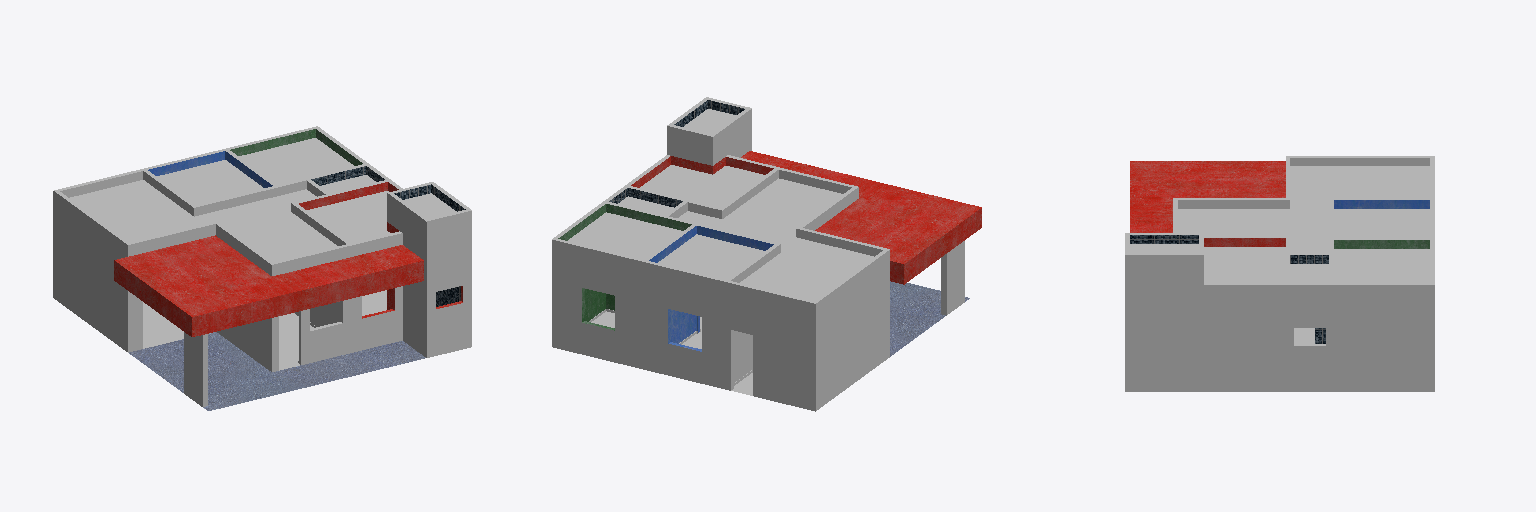
3 views of the same model, side by side, from view 1: azimuth 30°, elevation 25°; view 2: azimuth 150°, elevation 25°; view 3: azimuth 270°, elevation 25° (orthographic).
Parts seen in each view (by area): view 1: paredes_exteriores, techo_garage, brick, piso_garage, techo_sala, techo_cocina, techo_cuarto_2, techo_cuarto_1, techo_cuarto_3, columna, piso_cocina, piso_sala (+1 smaller); view 2: paredes_exteriores, techo_garage, techo_sala, techo_cocina, brick, techo_cuarto_3, techo_cuarto_2, piso_garage, techo_cuarto_1, columna, techo_baño_suite; view 3: paredes_exteriores, brick, techo_garage, techo_cocina, techo_sala, techo_cuarto_2, techo_cuarto_3, techo_cuarto_1, techo_baño, techo_baño_suite.
Boxes of the visible parts, <box> form: paredes_exteriores: <box>53,126,402,371</box>; techo_garage: <box>114,235,423,336</box>; brick: <box>387,182,471,357</box>; piso_garage: <box>129,332,425,410</box>; techo_sala: <box>199,189,337,261</box>; techo_cocina: <box>70,180,206,241</box>; techo_cuarto_2: <box>239,138,353,184</box>; techo_cuarto_1: <box>157,160,263,204</box>; techo_cuarto_3: <box>307,191,390,242</box>; columna: <box>184,332,207,406</box>; piso_cocina: <box>143,302,183,348</box>; piso_sala: <box>279,313,313,370</box>; paredes_exteriores: <box>552,155,889,411</box>; techo_garage: <box>741,151,981,284</box>; techo_sala: <box>677,178,842,247</box>; techo_cocina: <box>740,237,873,300</box>; brick: <box>667,97,751,174</box>; techo_cuarto_3: <box>640,165,764,207</box>; techo_cuarto_2: <box>568,212,682,259</box>; piso_garage: <box>890,281,969,356</box>; techo_cuarto_1: <box>658,234,764,279</box>; columna: <box>941,241,964,315</box>; techo_baño_suite: <box>684,109,736,133</box>; paredes_exteriores: <box>1173,156,1434,391</box>; brick: <box>1125,233,1203,391</box>; techo_garage: <box>1130,161,1285,232</box>; techo_cocina: <box>1290,166,1429,208</box>; techo_sala: <box>1178,209,1328,252</box>; techo_cuarto_2: <box>1334,249,1429,282</box>; techo_cuarto_3: <box>1204,247,1285,282</box>; techo_cuarto_1: <box>1334,209,1429,237</box>; techo_baño: <box>1290,264,1328,282</box>; techo_baño_suite: <box>1130,244,1198,252</box>.
Size of the model in its own units: 10 by 4.7 by 9.65.
14 materials, 6 textured.